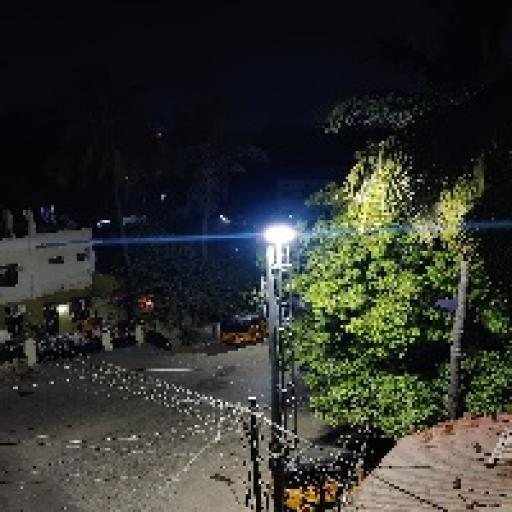Working: (258, 216, 299, 256)
